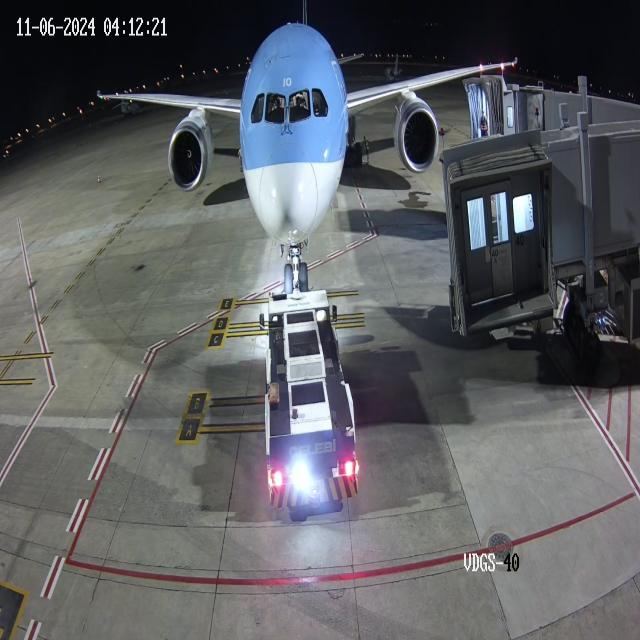bridge: (489, 72, 546, 141)
plane: (76, 2, 437, 288)
window: (245, 80, 338, 130)
